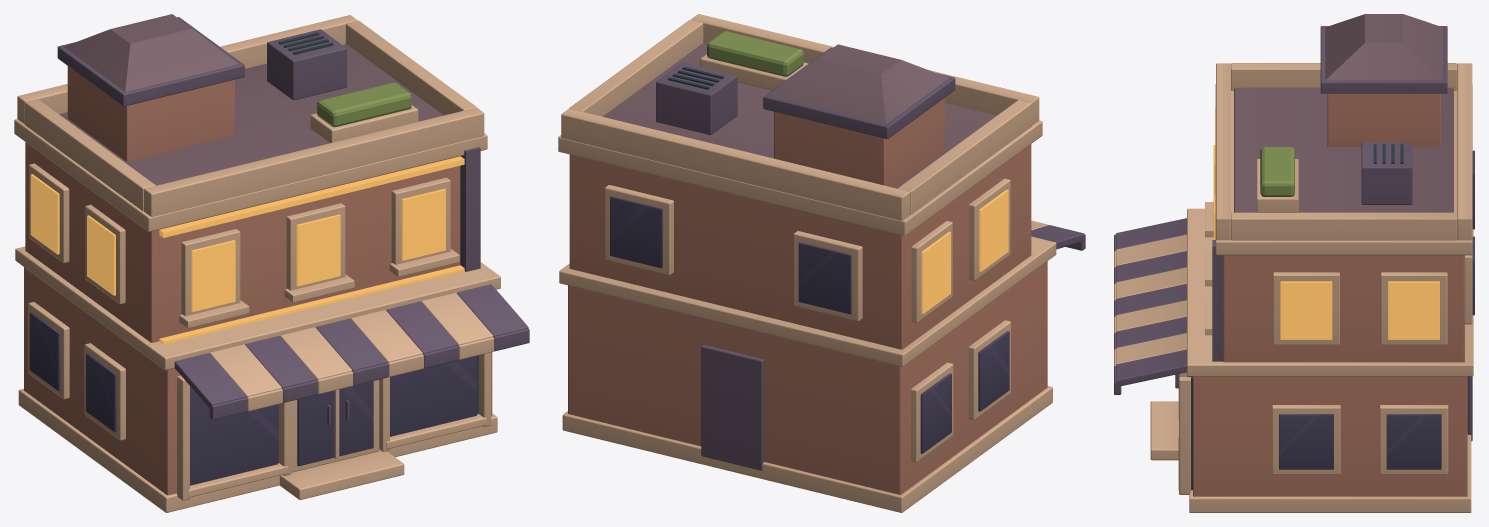
Rendered from 02D-market-blender.glb.
The picture shows the model from 3 angles, left to right: view 1: azimuth 30°, elevation 25°; view 2: azimuth 150°, elevation 25°; view 3: azimuth 270°, elevation 25°; orthographic projection. The views are drawn at different scales.
Parts seen in each view (by area): view 1: 02D Amber Afterglow; view 2: 02D Amber Afterglow; view 3: 02D Amber Afterglow.
Part boxes in pixels (bbox=[...]): 02D Amber Afterglow: bbox=[14, 14, 529, 512]; 02D Amber Afterglow: bbox=[558, 14, 1085, 512]; 02D Amber Afterglow: bbox=[1114, 14, 1474, 512].
Bounding box in the file's own units: 6.28 × 6.85 × 6.04.
Materials: 8 (8 with a texture image).
